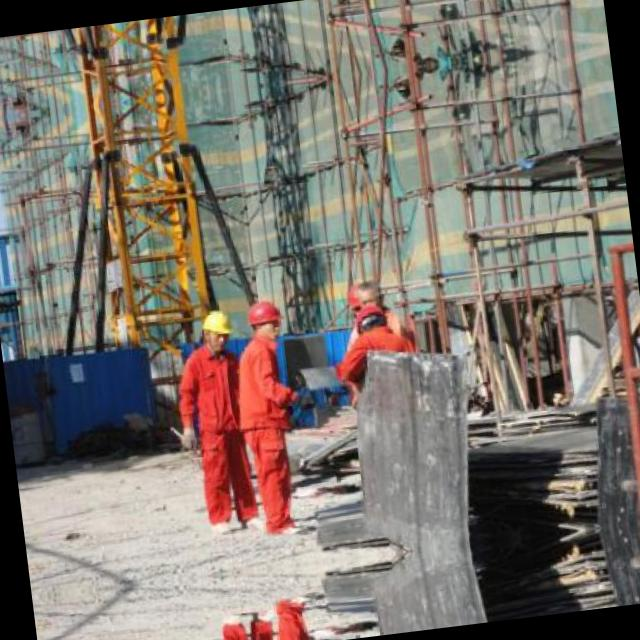helmet: (242, 298, 282, 342), (199, 305, 235, 351), (350, 303, 388, 334), (342, 282, 368, 314)
